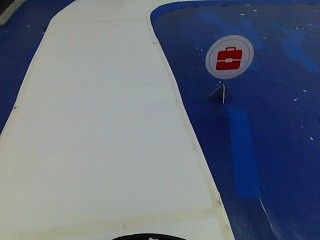company: (204, 37, 253, 79)
